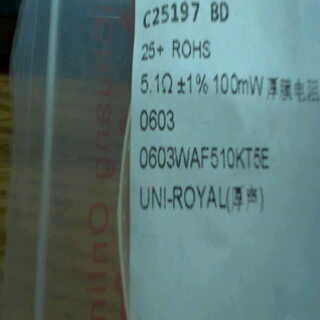5.1R: (138, 67, 175, 97)
